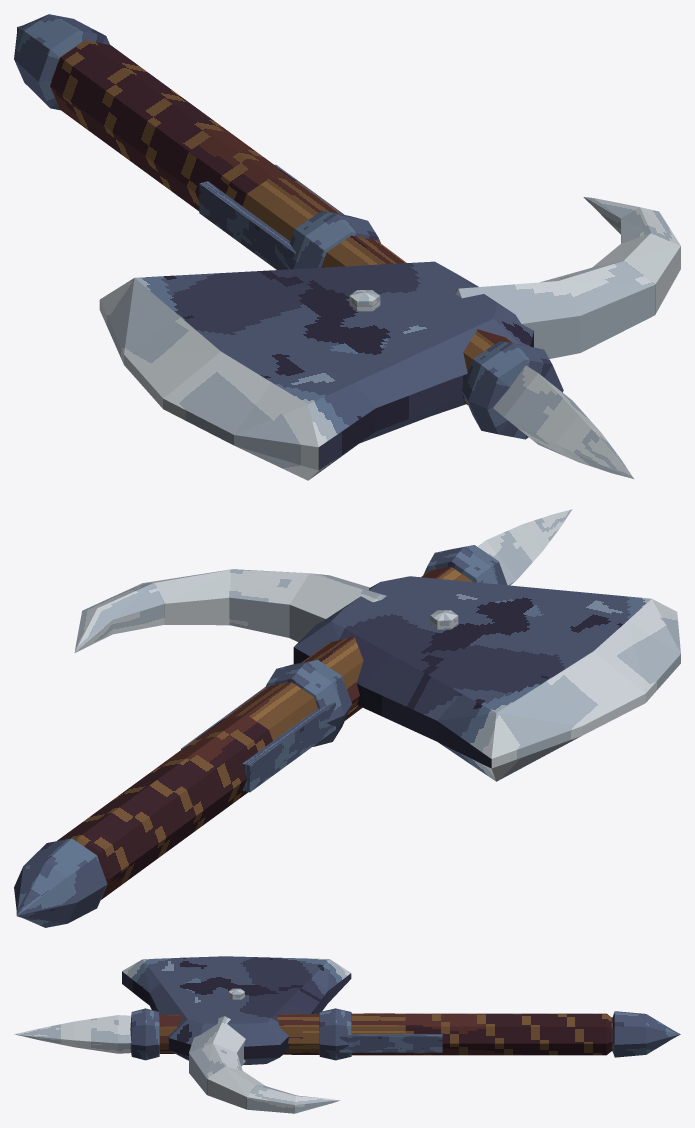
File: axt-c1-eisenzwingen.glb
The picture shows the model from 3 angles, top to bottom: view 1: azimuth 30°, elevation 25°; view 2: azimuth 150°, elevation 25°; view 3: azimuth 270°, elevation 25°; orthographic projection. The views are drawn at different scales.
Parts seen in each view (by area): view 1: axe; view 2: axe; view 3: axe.
Boxes of the visible parts, <box> form: axe: <box>14,14,680,480</box>; axe: <box>14,509,680,927</box>; axe: <box>14,956,680,1113</box>.
Size of the model in its own units: 0.318 by 0.056 by 0.6066.
Materials: 1 (1 with a texture image).
